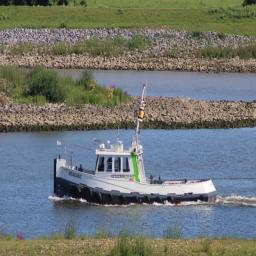tugboat: (53, 81, 219, 214)
